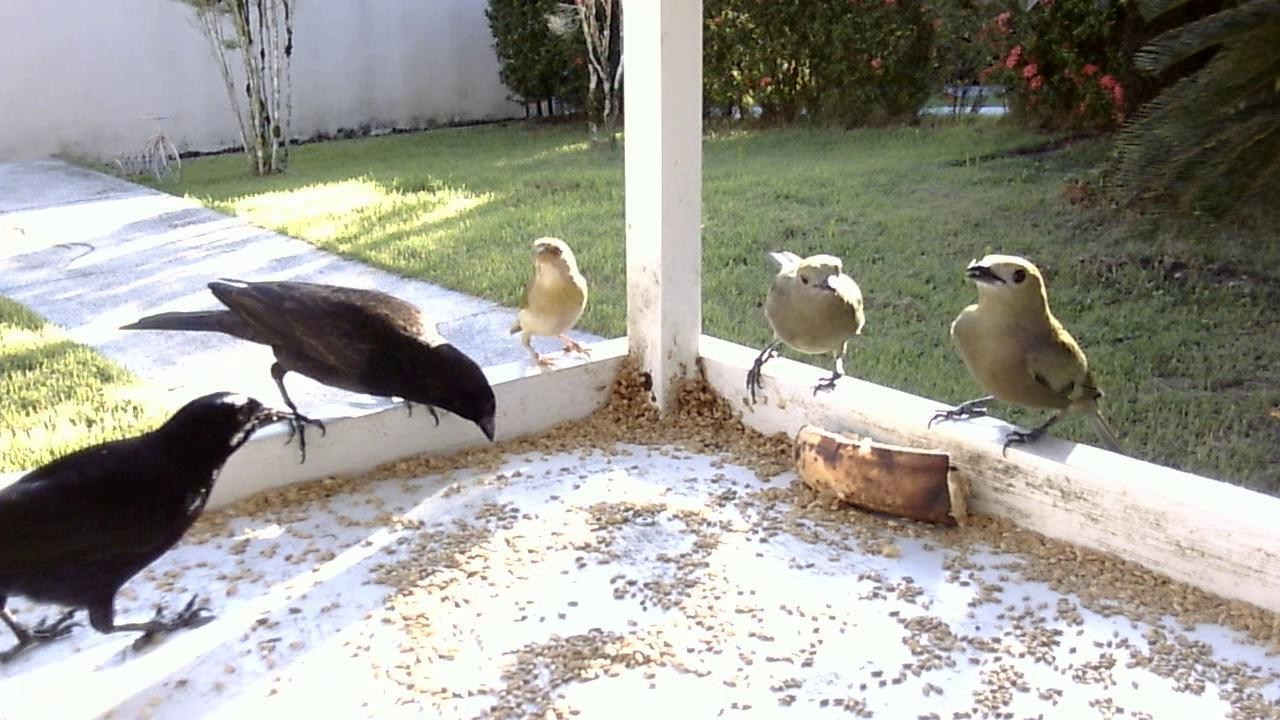canario_do_amazonas: (502, 234, 597, 378)
chupim: (1, 389, 315, 675), (108, 263, 507, 478)
sanhaco_do_coqueiro: (928, 245, 1122, 453), (742, 247, 868, 408)
